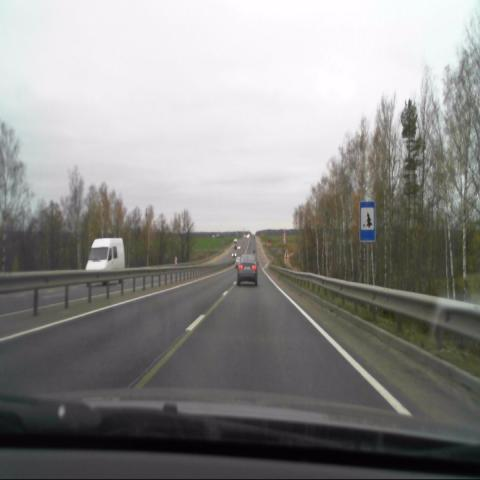7_11: (360, 203, 375, 243)
